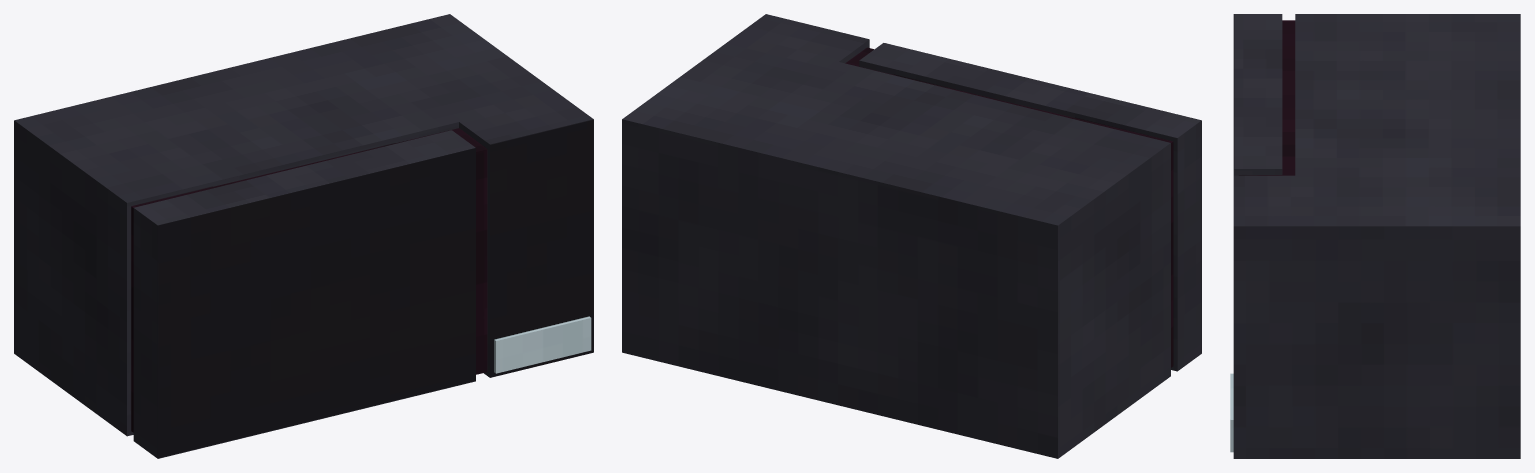
The model's file is microwave.fbx.
3 views of the same model, side by side, from view 1: azimuth 30°, elevation 25°; view 2: azimuth 150°, elevation 25°; view 3: azimuth 270°, elevation 25° (orthographic).
Parts seen in each view (by area): view 1: microwave; view 2: microwave; view 3: microwave.
Part boxes in pixels (left/top/right/bottom): microwave: left=14, top=14, right=593, bottom=458; microwave: left=622, top=14, right=1201, bottom=458; microwave: left=1230, top=14, right=1520, bottom=458.
Size of the model in its own units: 89.19 by 45.64 by 51.6.
Materials: 1 (1 with a texture image).
